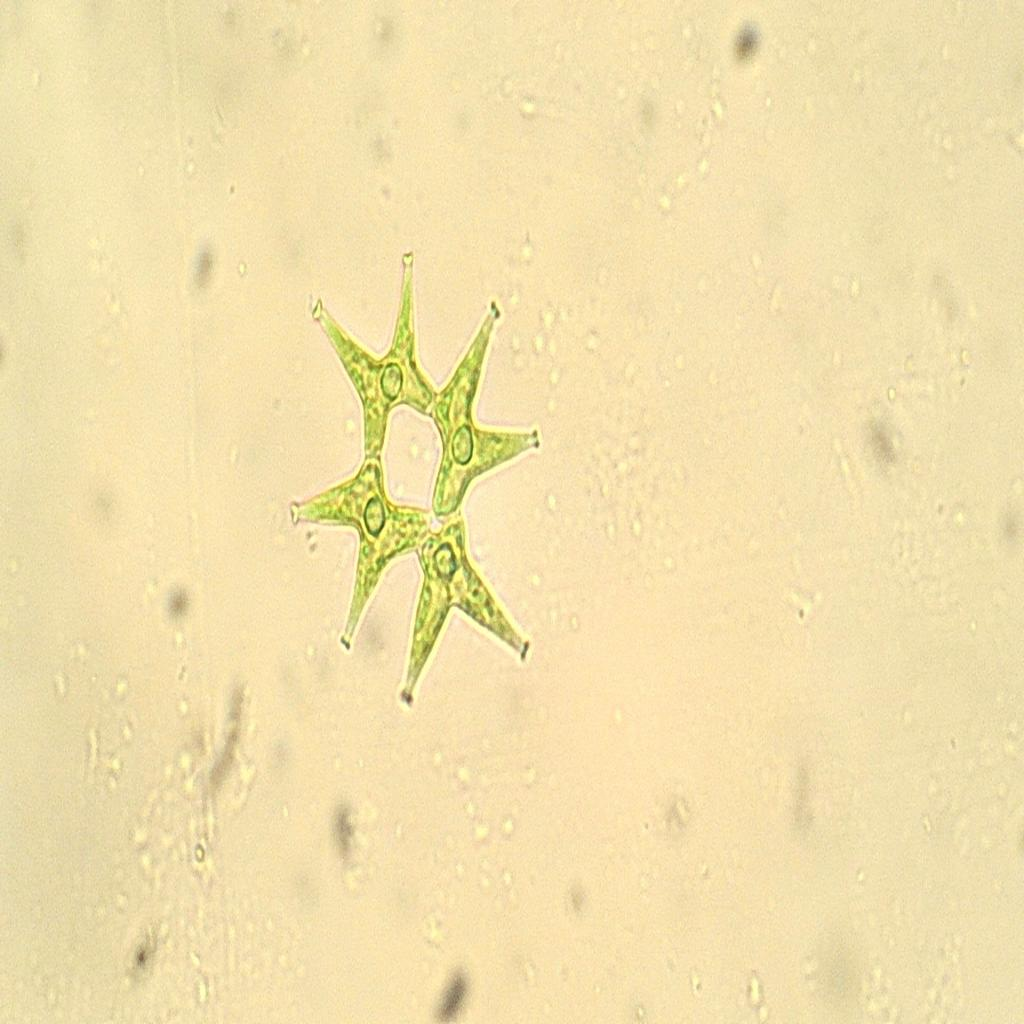Pediastrum_CT: (285, 237, 548, 714)
